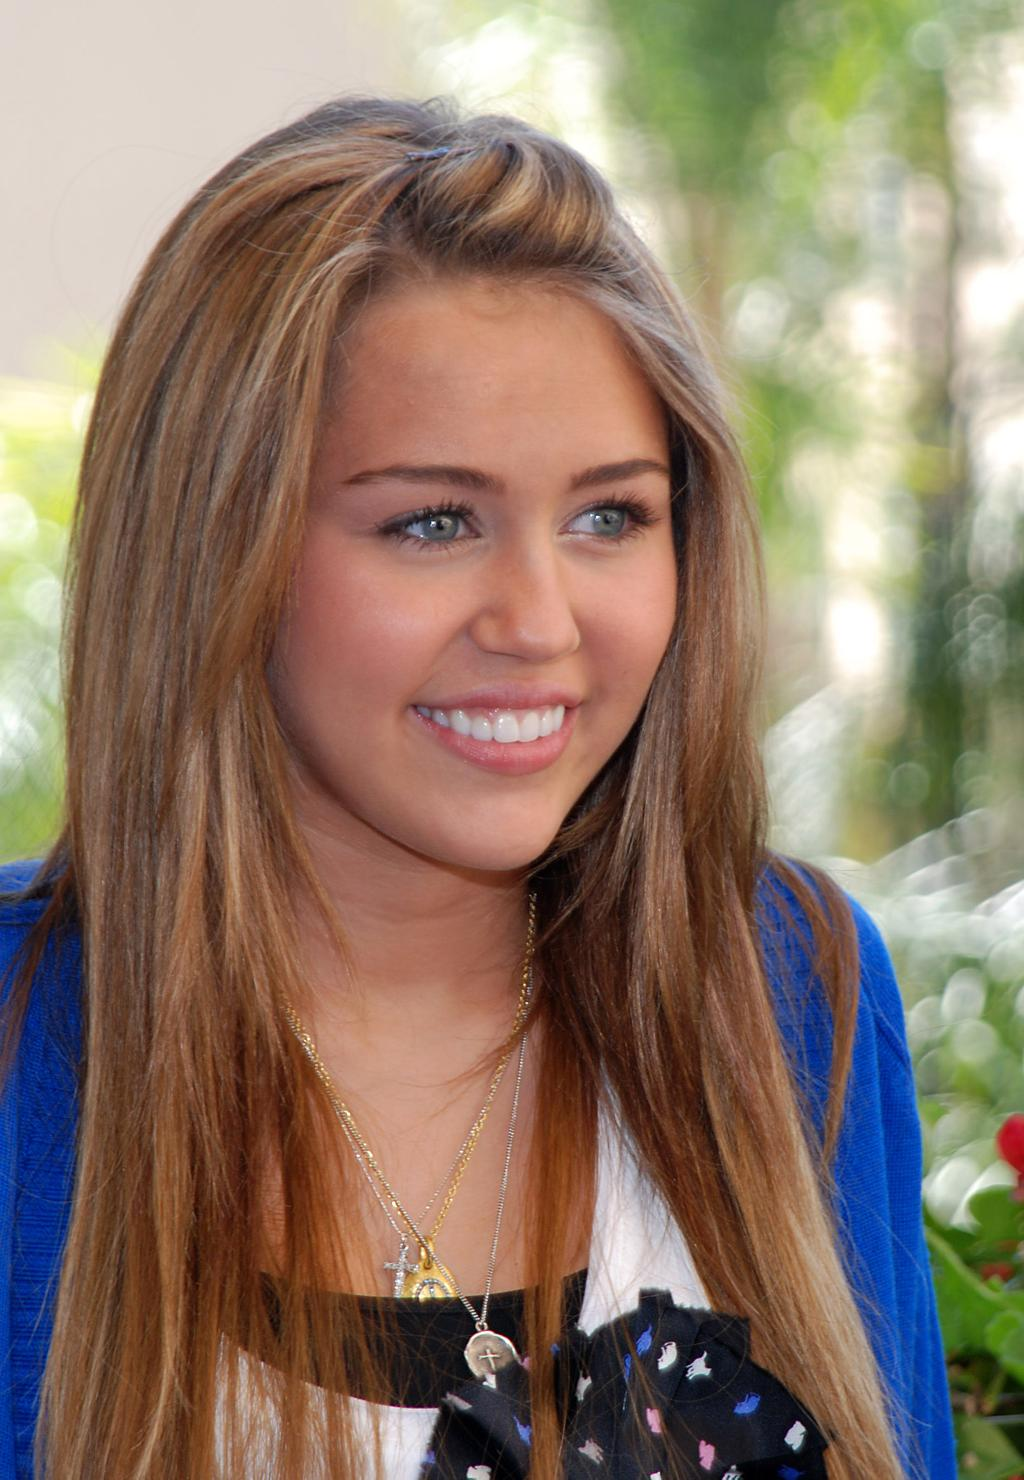face: (269, 266, 680, 873)
